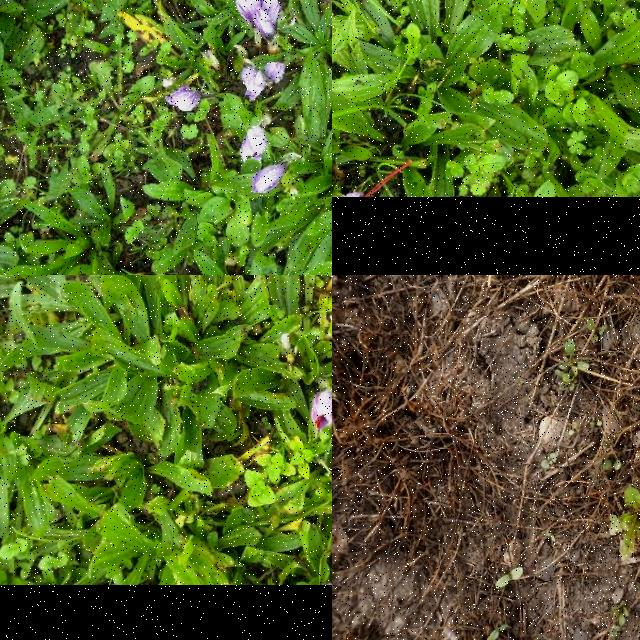flower: (310, 389, 332, 431), (253, 166, 285, 194), (240, 126, 266, 160), (165, 88, 201, 112)
overlap: (235, 0, 282, 37), (243, 65, 284, 101)
